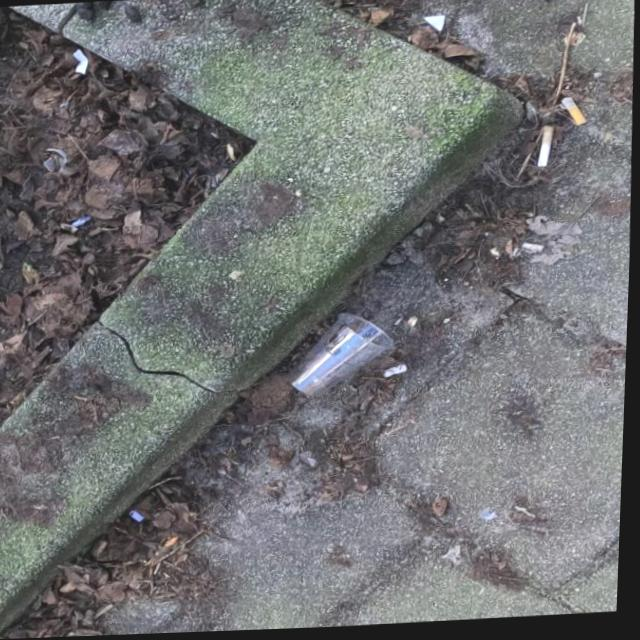Cup: (285, 312, 401, 401)
